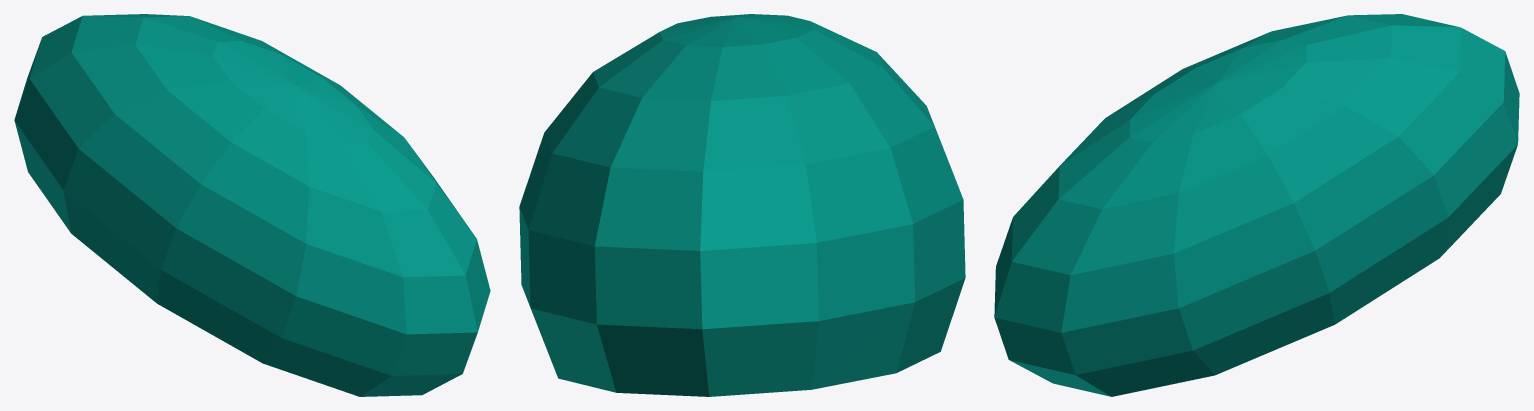
The model's file is n5_group1243493786_lev5.001.glb.
3 views of the same model, side by side, from view 1: azimuth 30°, elevation 25°; view 2: azimuth 150°, elevation 25°; view 3: azimuth 270°, elevation 25° (orthographic). The views are drawn at different scales.
Visible parts, largest first — view 1: n5_group1243493786_lev5.001; view 2: n5_group1243493786_lev5.001; view 3: n5_group1243493786_lev5.001.
Part boxes in pixels (box(x1,y1,x2,y2)): n5_group1243493786_lev5.001: box(14, 14, 490, 396); n5_group1243493786_lev5.001: box(519, 14, 965, 396); n5_group1243493786_lev5.001: box(994, 14, 1519, 396).
Bounding box in the file's own units: 1.21 × 1.09 × 1.74.
